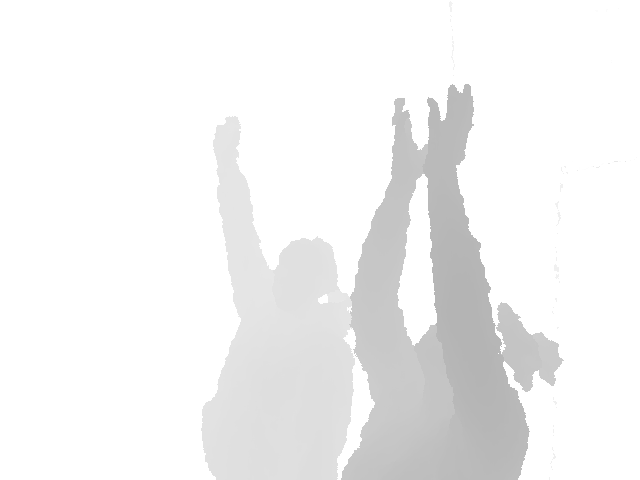hand: (421, 83, 474, 181), (392, 98, 435, 183), (212, 117, 242, 171)
head: (415, 301, 563, 416), (275, 236, 340, 320)
person: (338, 83, 564, 480), (199, 116, 354, 480)
